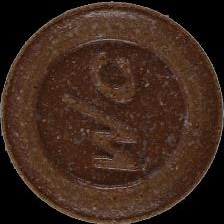52544-249: (0, 0, 224, 224)
